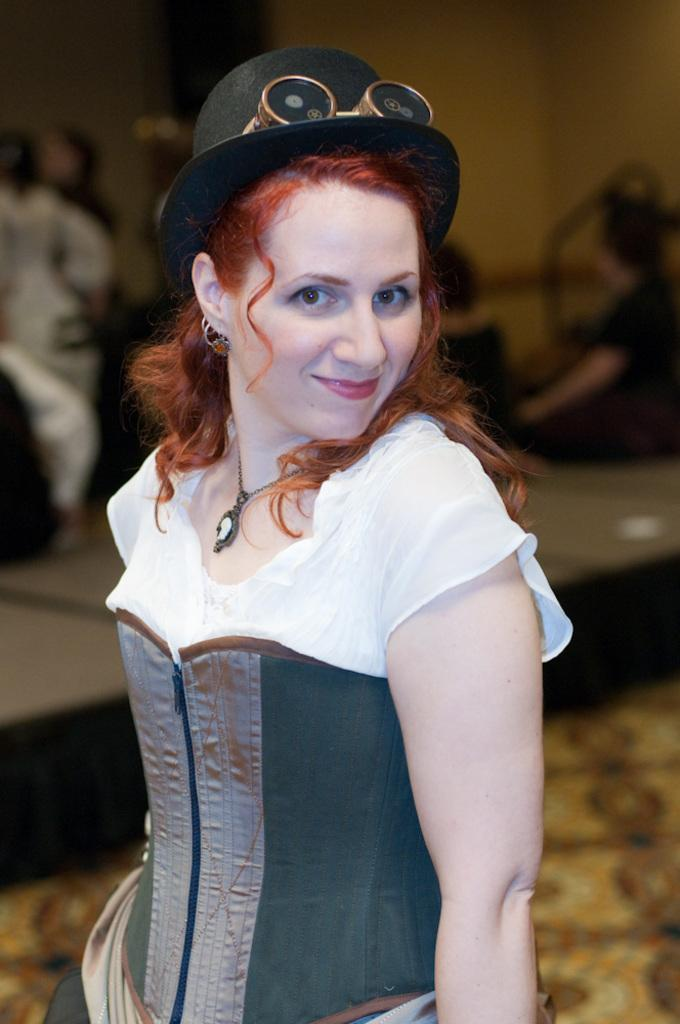Hat: (156, 54, 457, 282)
